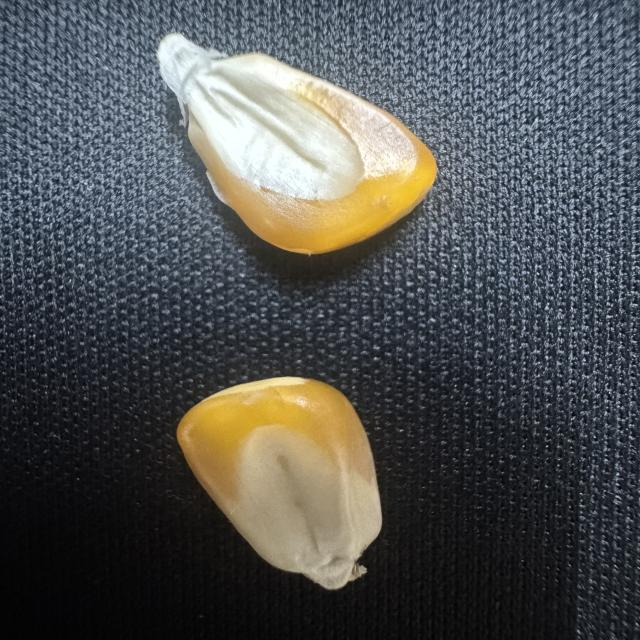Good-Seed: (150, 31, 458, 263), (166, 370, 392, 595)
